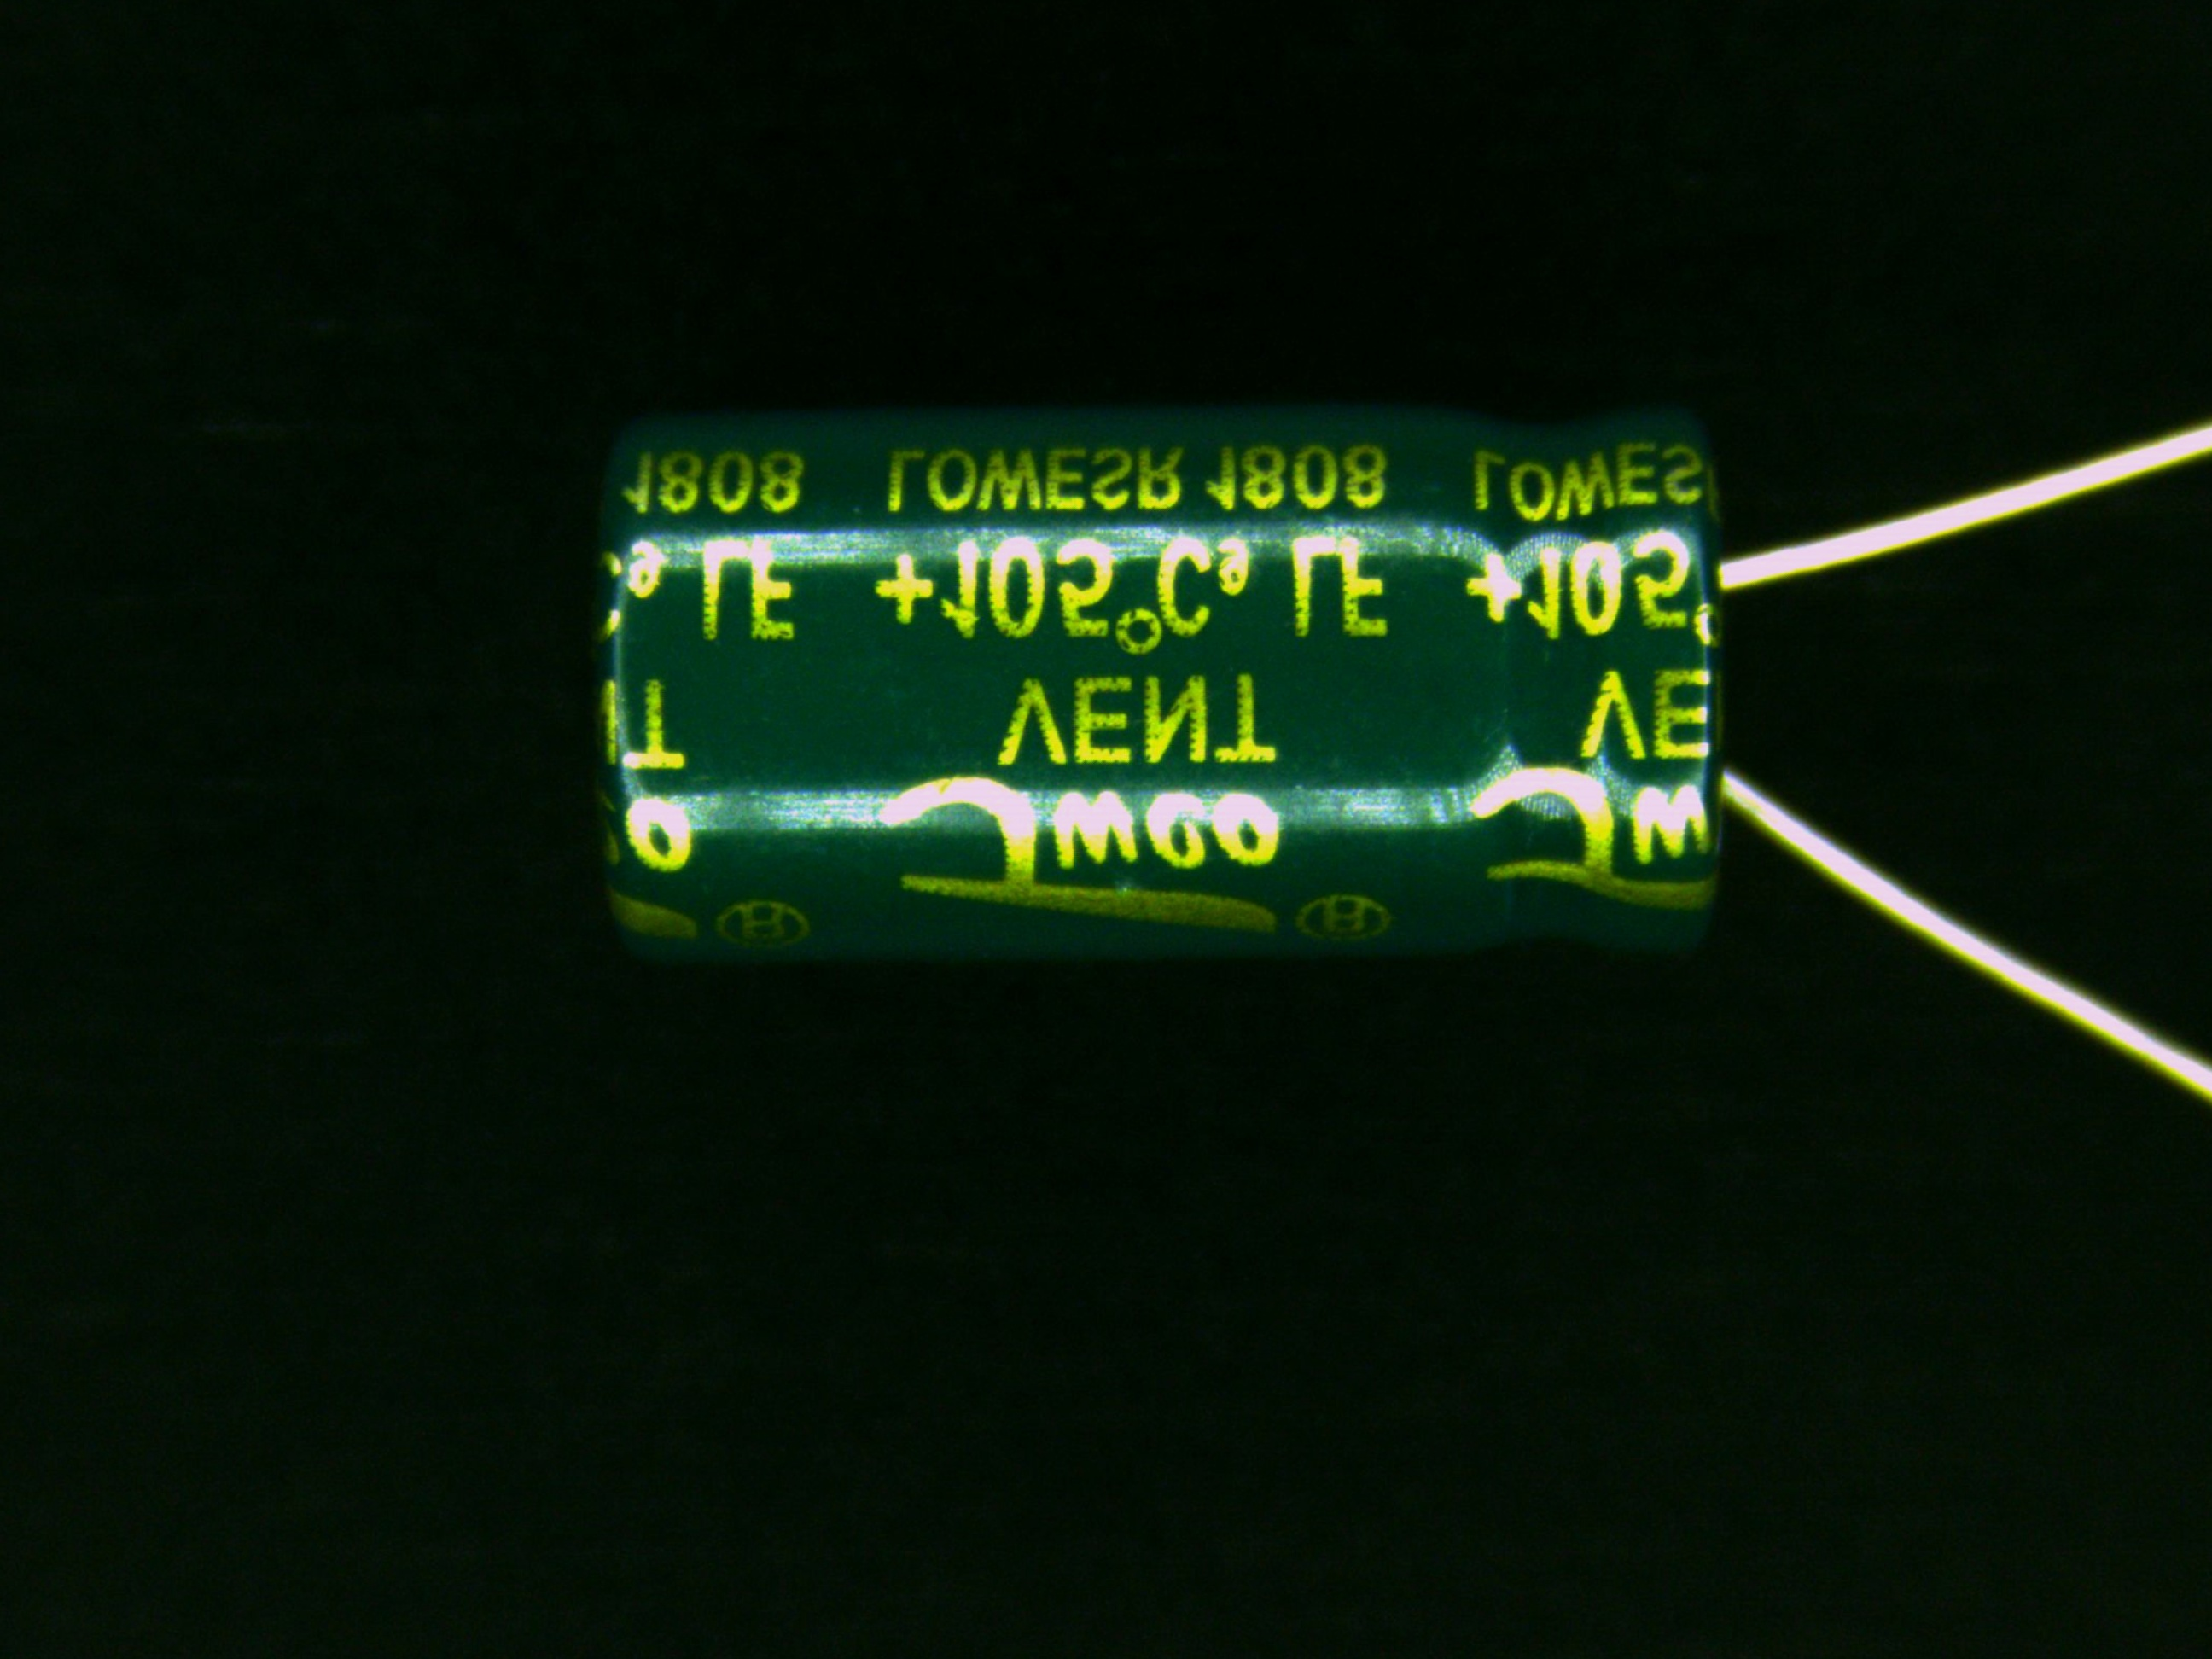c1: (597, 385, 1954, 967)
